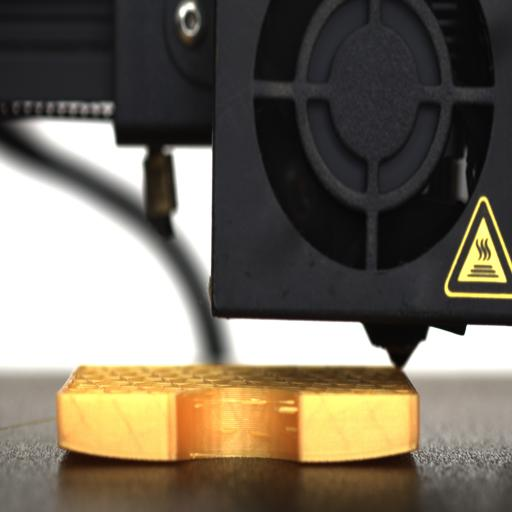warp: (302, 436, 422, 466), (54, 436, 182, 464)
